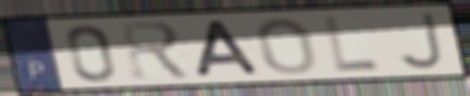0: (64, 23, 119, 84)
A: (193, 19, 263, 79)
J: (395, 11, 447, 72)
L: (321, 15, 383, 74)
O: (255, 16, 319, 76)
R: (117, 19, 196, 81)
